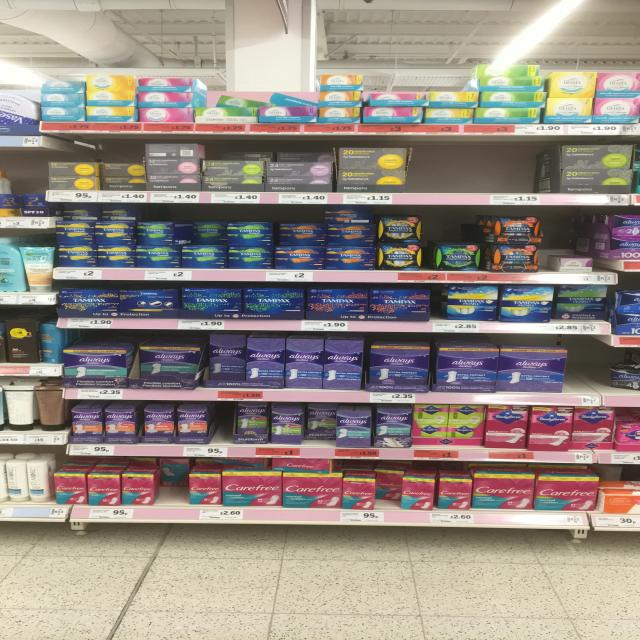void: (515, 142, 549, 204), (411, 146, 443, 204), (448, 145, 478, 206), (575, 346, 605, 406), (483, 146, 509, 205), (208, 403, 232, 454)
